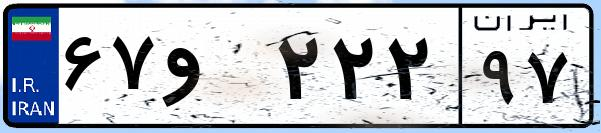2: (270, 28, 330, 110), (385, 28, 445, 110), (330, 28, 385, 110)
6: (57, 26, 110, 100)
7: (525, 38, 570, 115), (110, 28, 158, 98)
9: (475, 38, 525, 113)
و: (158, 20, 270, 120)
